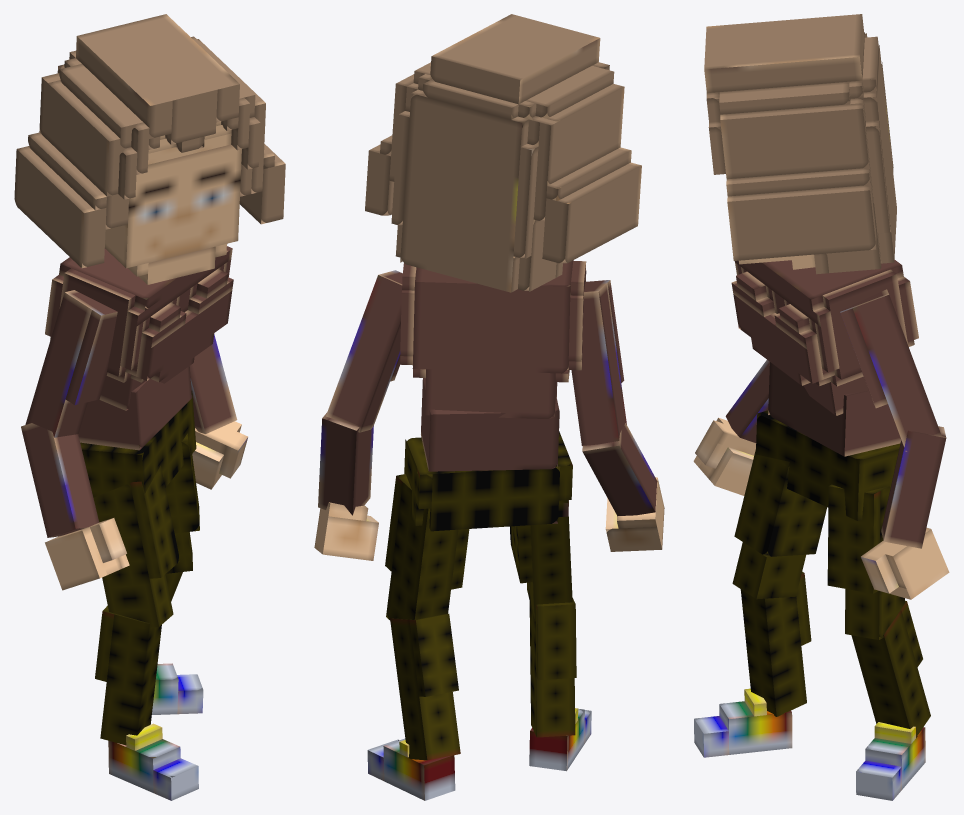
File: rae.fbx
3 views of the same model, side by side, from view 1: azimuth 30°, elevation 25°; view 2: azimuth 150°, elevation 25°; view 3: azimuth 270°, elevation 25° (orthographic). The views are drawn at different scales.
Visible parts, largest first — view 1: Rae; view 2: Rae; view 3: Rae.
Part boxes in pixels (x1,y1,x2,y2): Rae: [14, 14, 285, 800]; Rae: [314, 14, 664, 800]; Rae: [693, 14, 949, 800].
Size of the model in its own units: 83.09 by 214 by 68.69.
